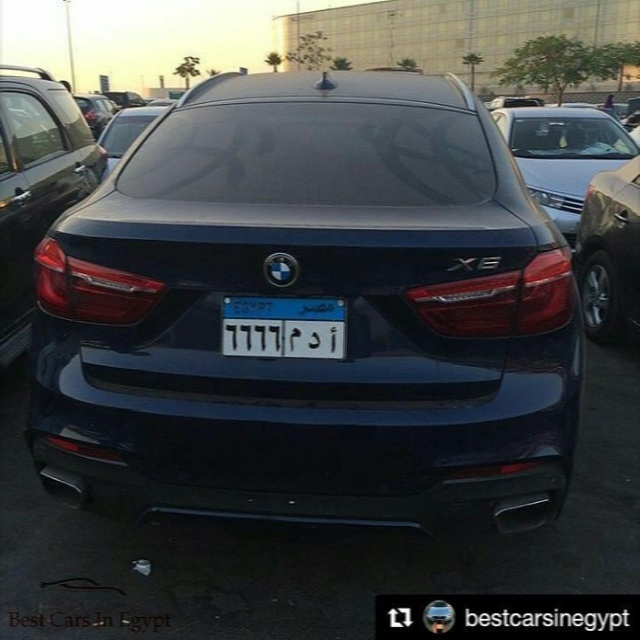License Plate: (215, 291, 353, 363)
